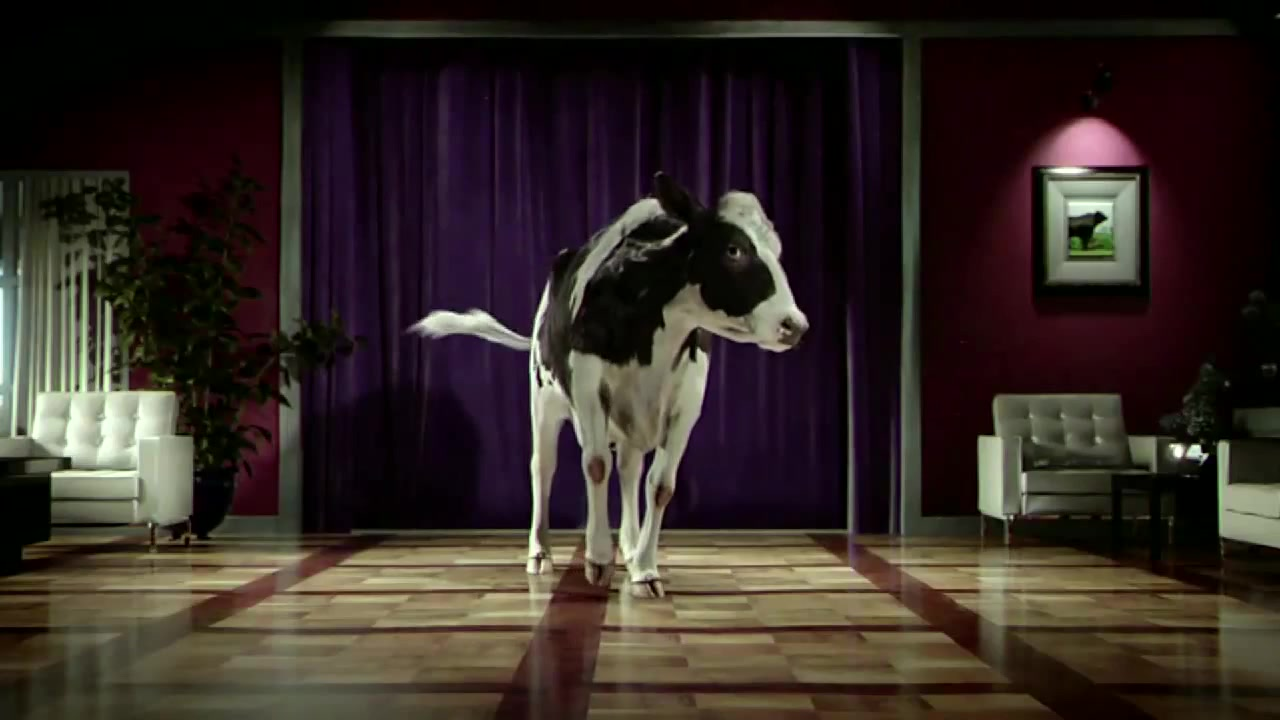cow: (409, 176, 808, 604)
